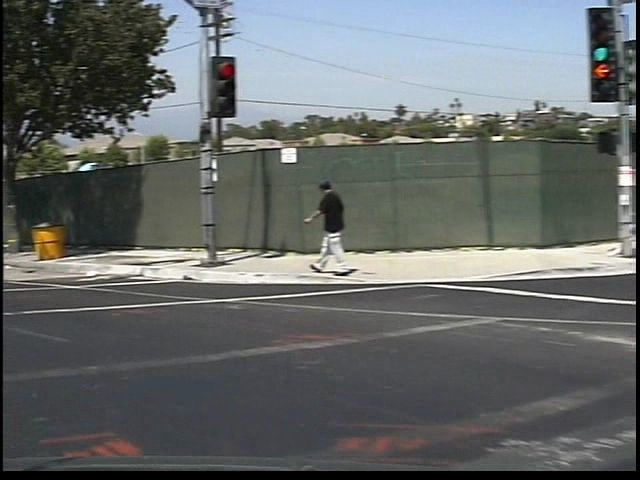person: (296, 167, 346, 286)
